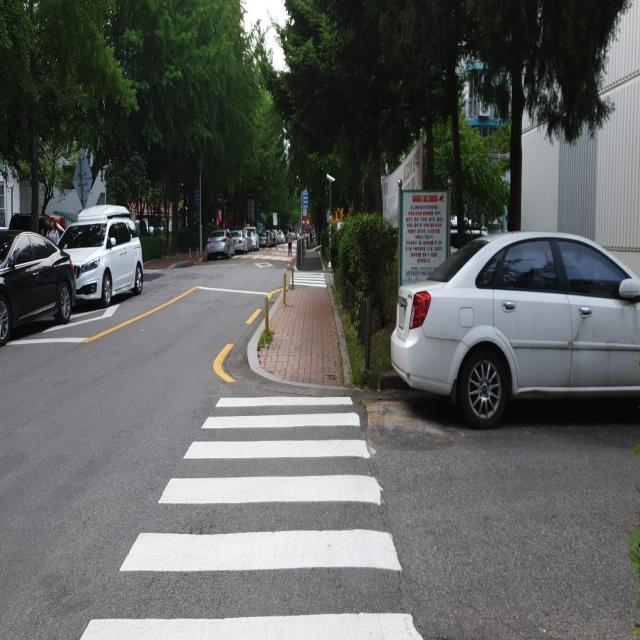횡단보도: (77, 390, 425, 640)
